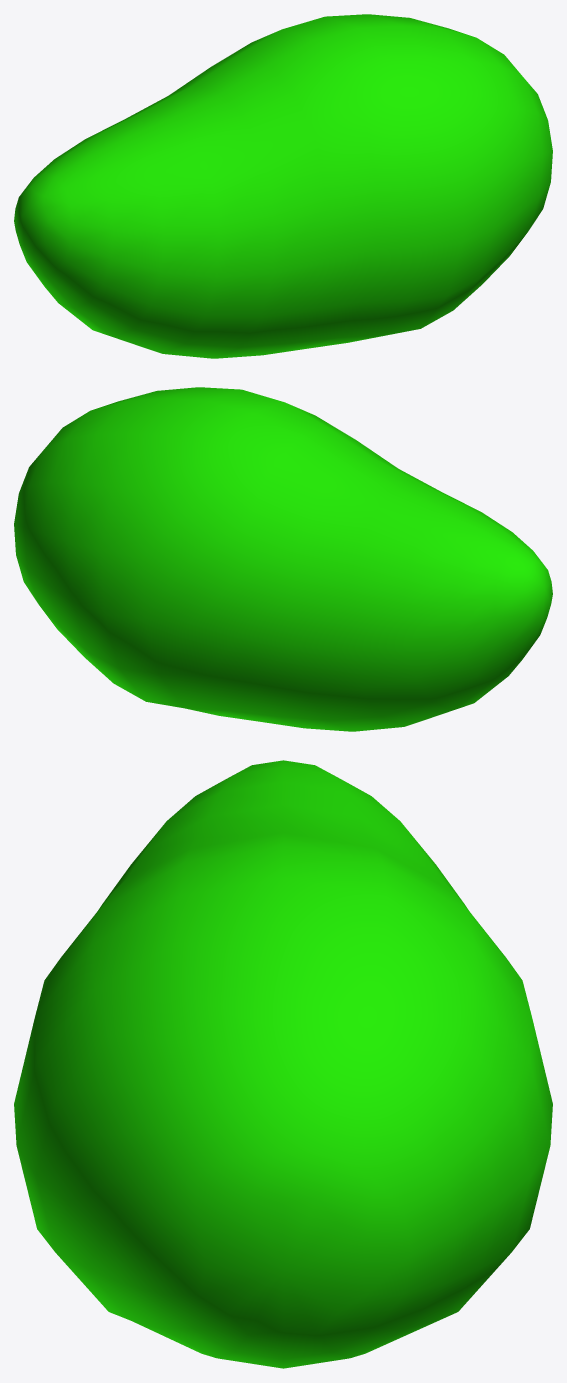
Rendered from mangga.fbx.
The picture shows the model from 3 angles, top to bottom: view 1: azimuth 30°, elevation 25°; view 2: azimuth 150°, elevation 25°; view 3: azimuth 270°, elevation 25°; orthographic projection. The views are drawn at different scales.
Visible parts, largest first — view 1: Mangga; view 2: Mangga; view 3: Mangga.
Part boxes in pixels (bbox=[...]): Mangga: bbox=[14, 14, 552, 358]; Mangga: bbox=[14, 387, 552, 731]; Mangga: bbox=[14, 760, 552, 1368].
Bounding box in the file's own units: 360 × 194 × 206.
